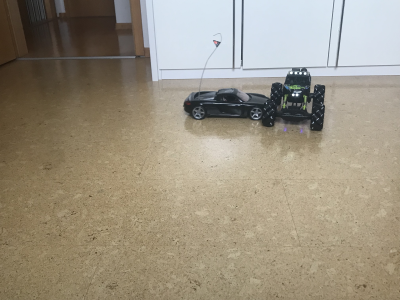remote control car: (262, 63, 327, 132)
